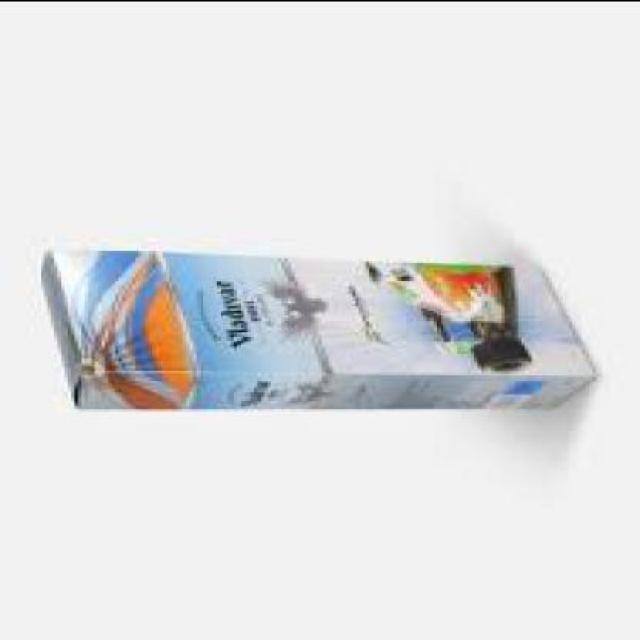CARDBOARD: (41, 250, 593, 412)
